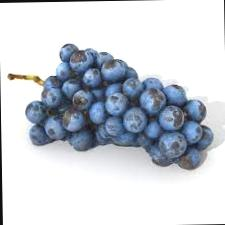Grape Rotten: (6, 39, 214, 172)
